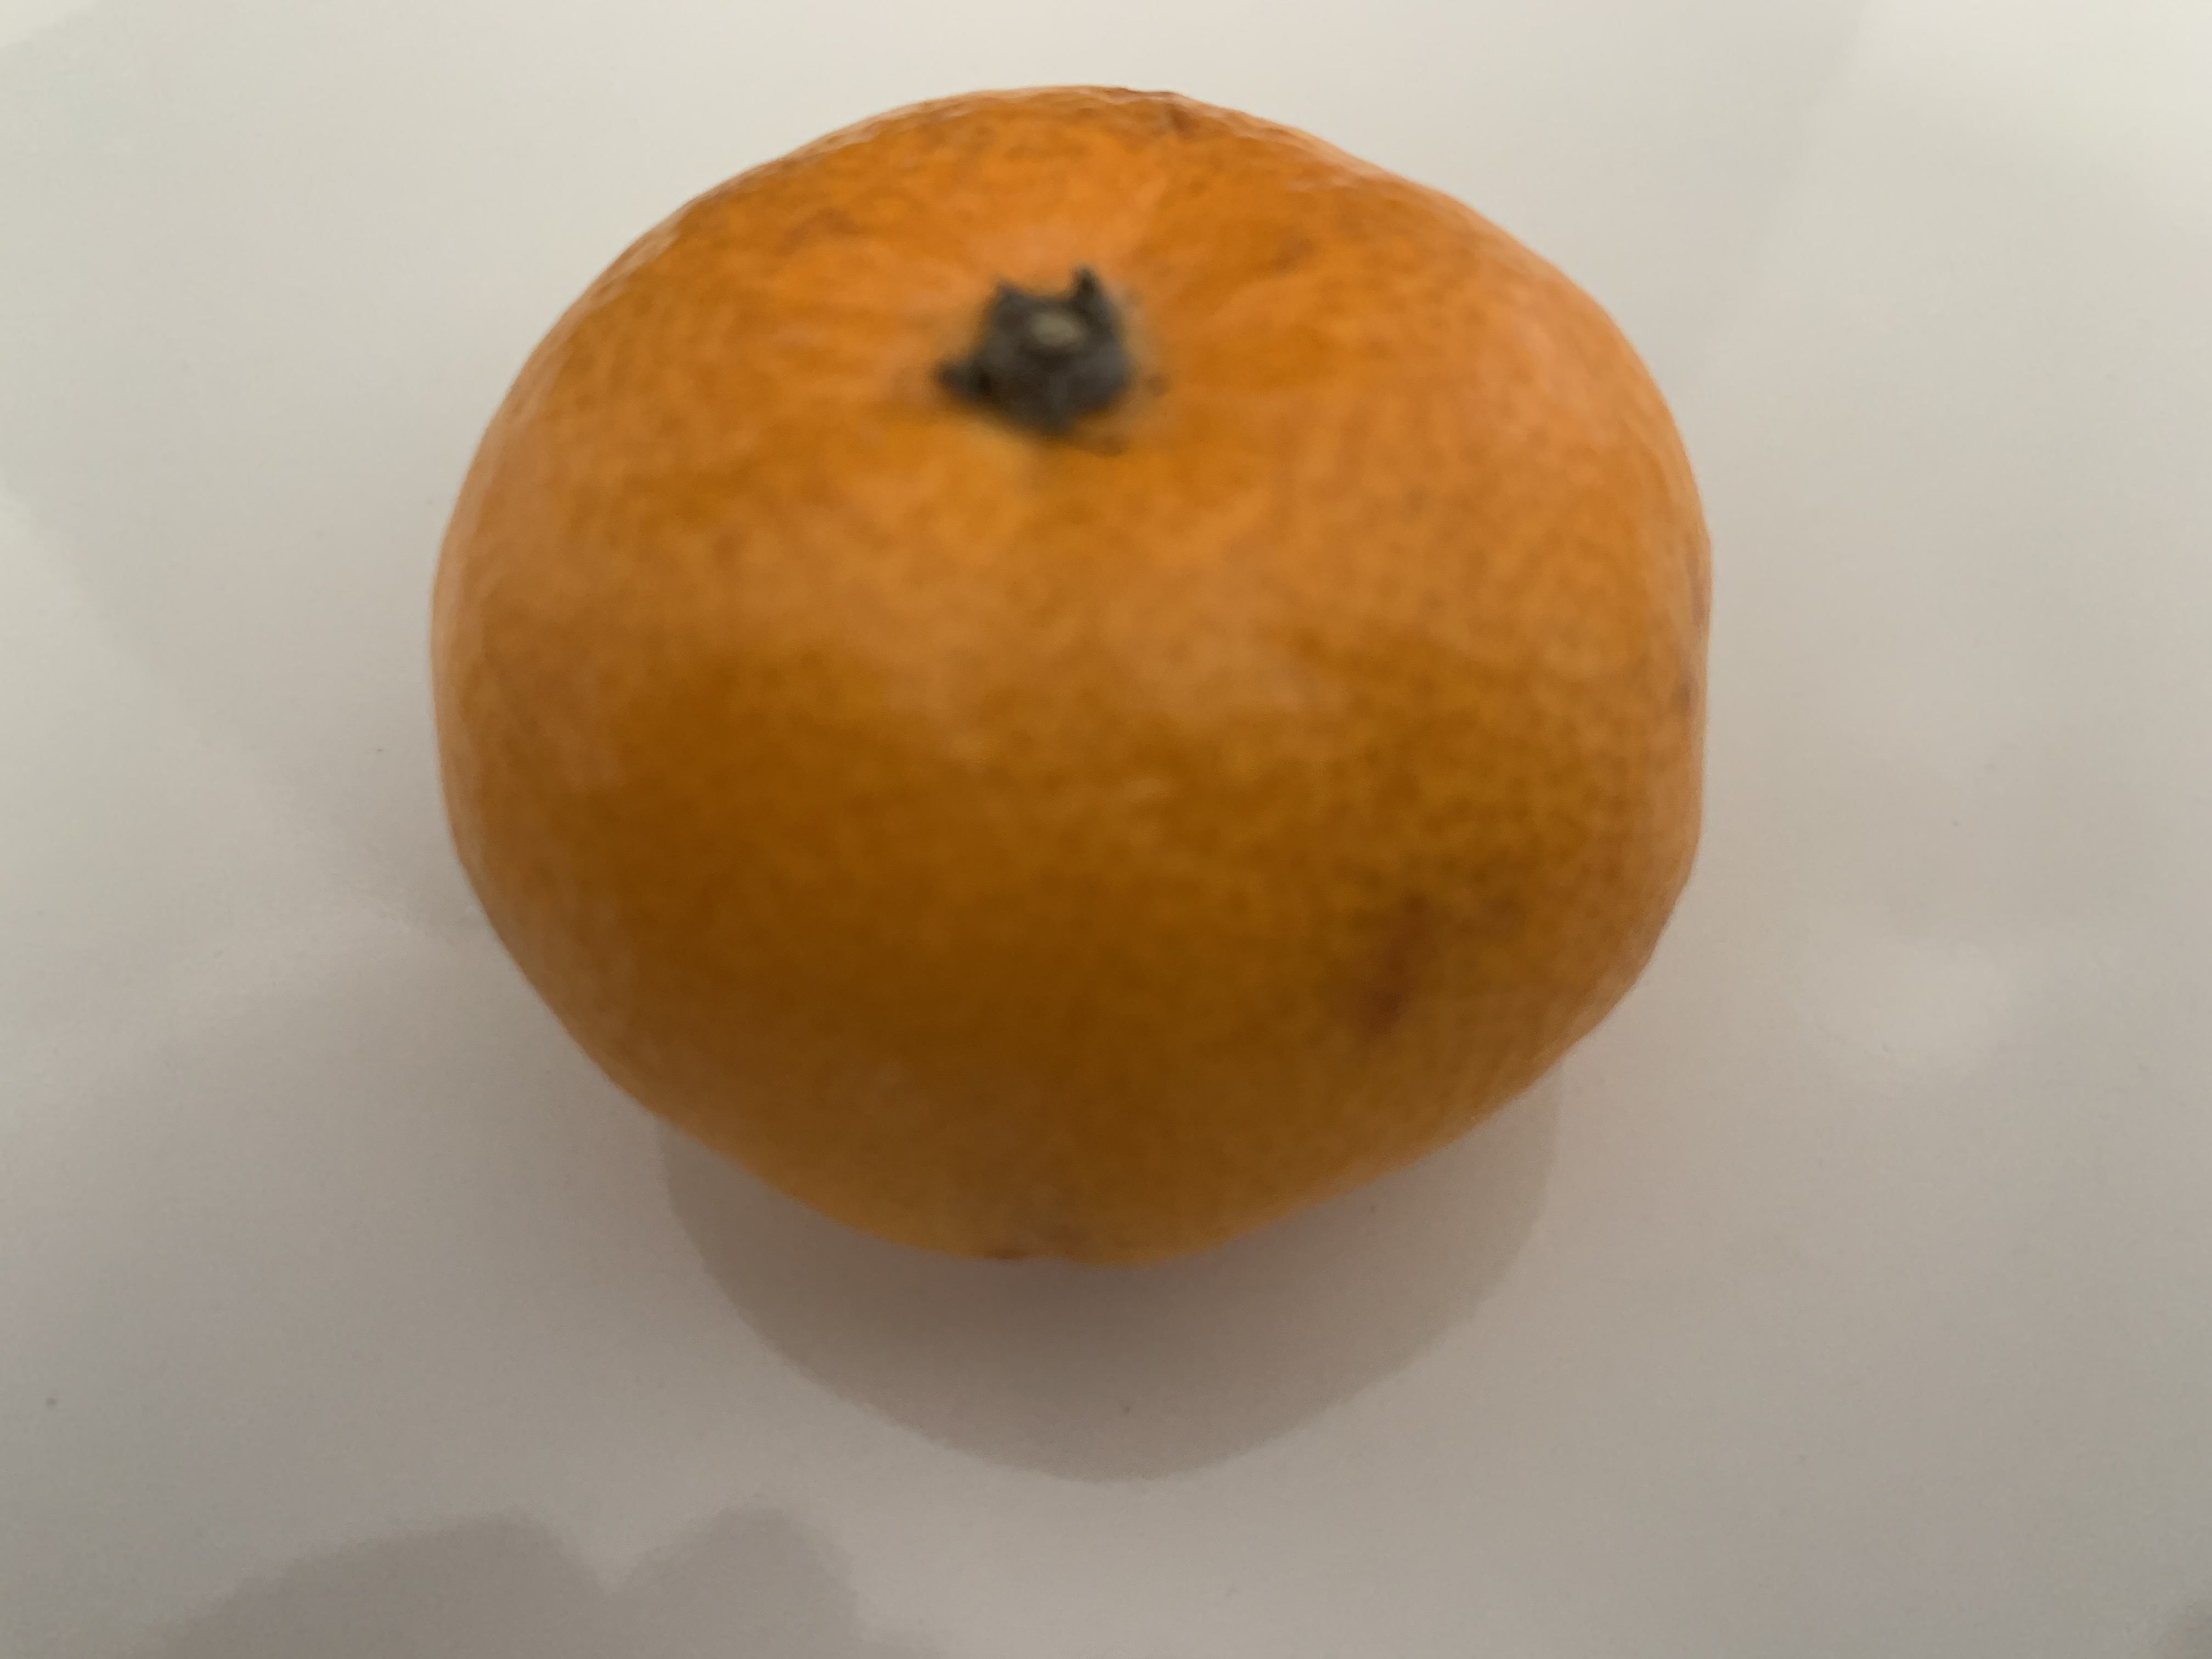orange: (446, 92, 1698, 1248)
